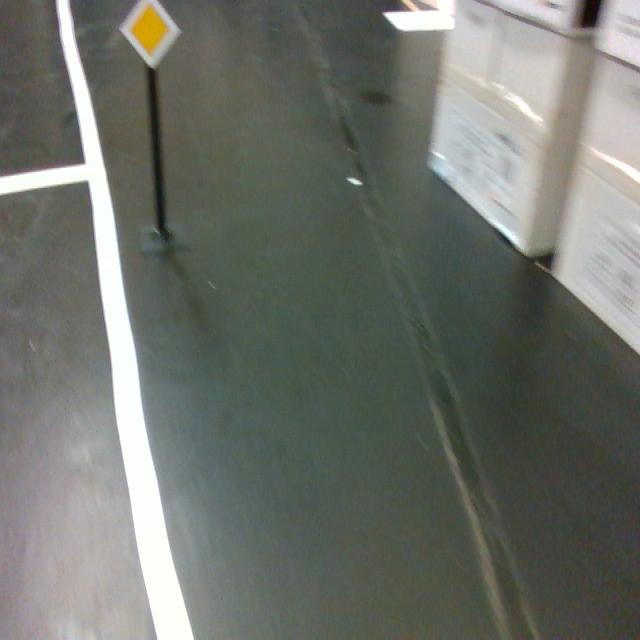priority-sign: (117, 0, 182, 71)
